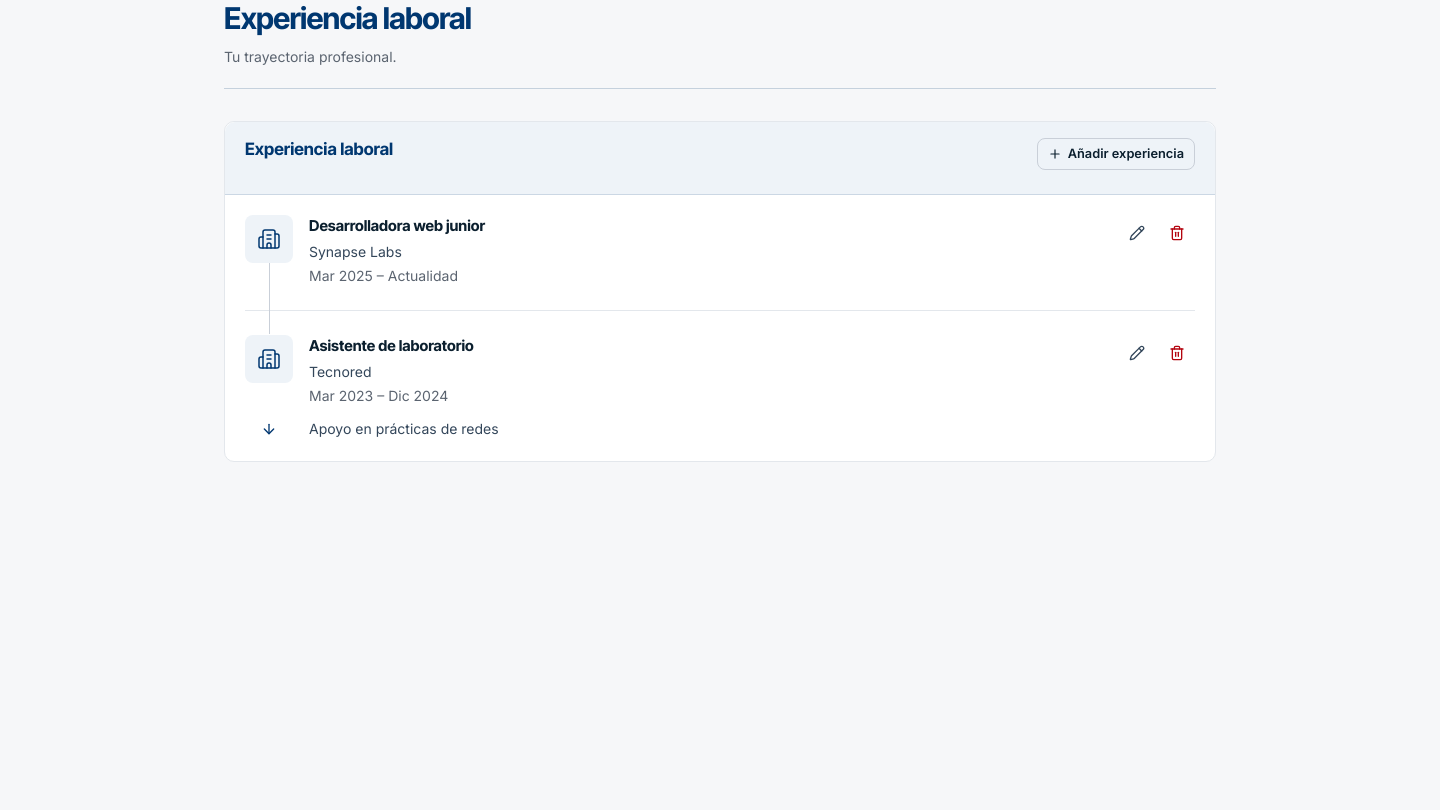
WorkExperienceView › creates an experience and reloads the list
Expected: the heading "Desarrolladora web junior" is shown, [309,216,485,235]
Click the button "Añadir experiencia" at (1116, 154), box [1037,138,1195,170]
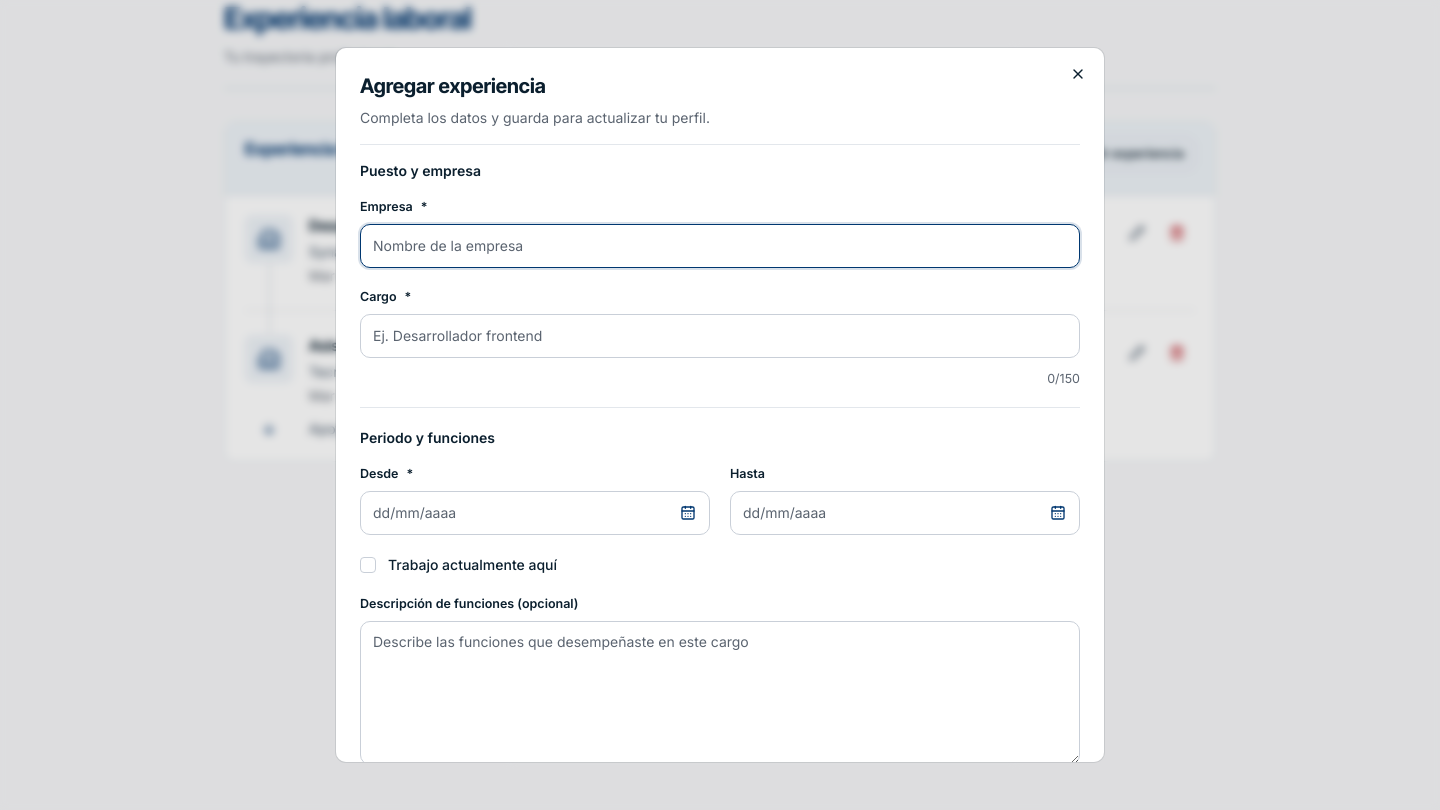
Type "Synapse Labs" into the field labelled "Empresa *" at (720, 246), box [360,224,1080,268]
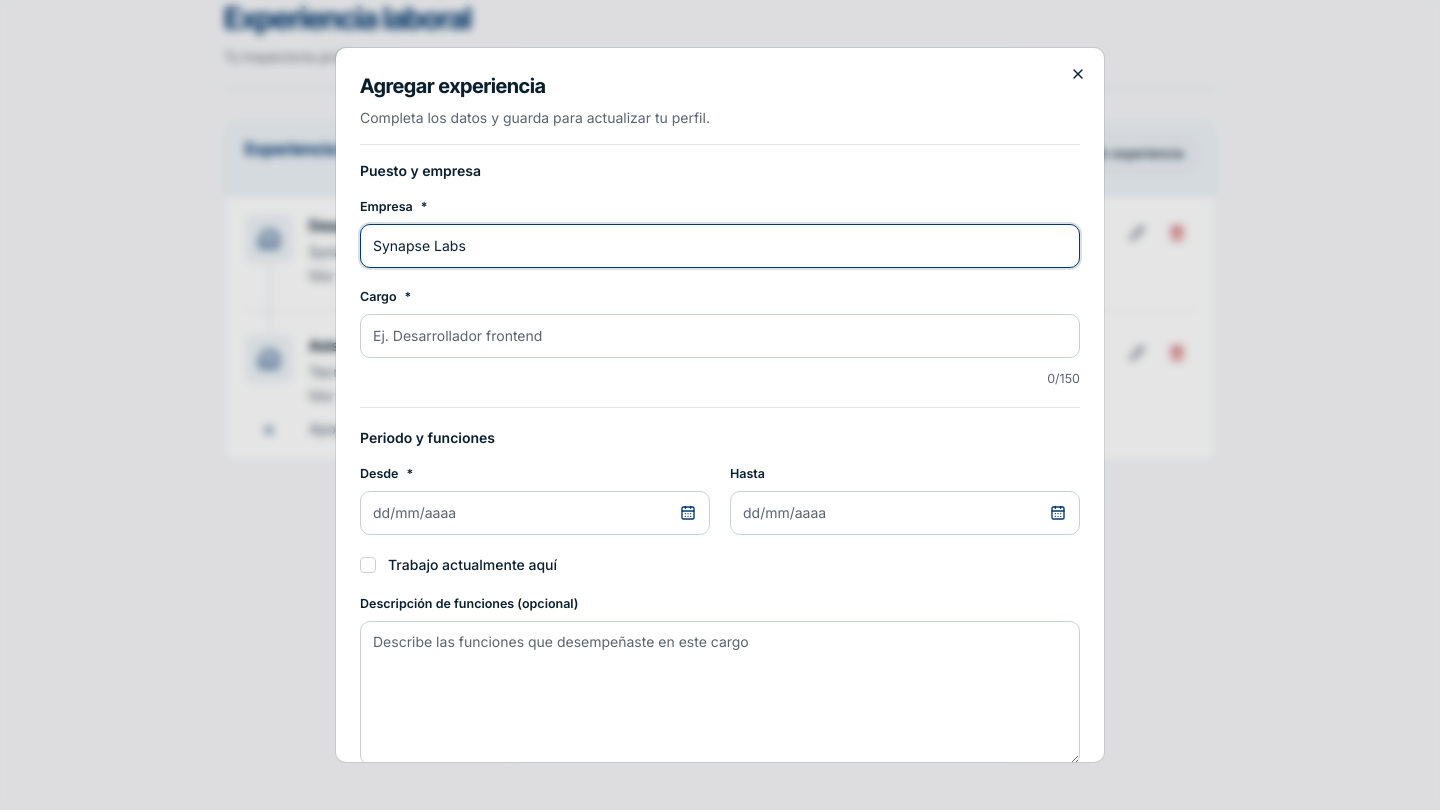
Type "Desarrolladora web junior" into the field labelled "Cargo *" at (720, 336), box [360,314,1080,358]
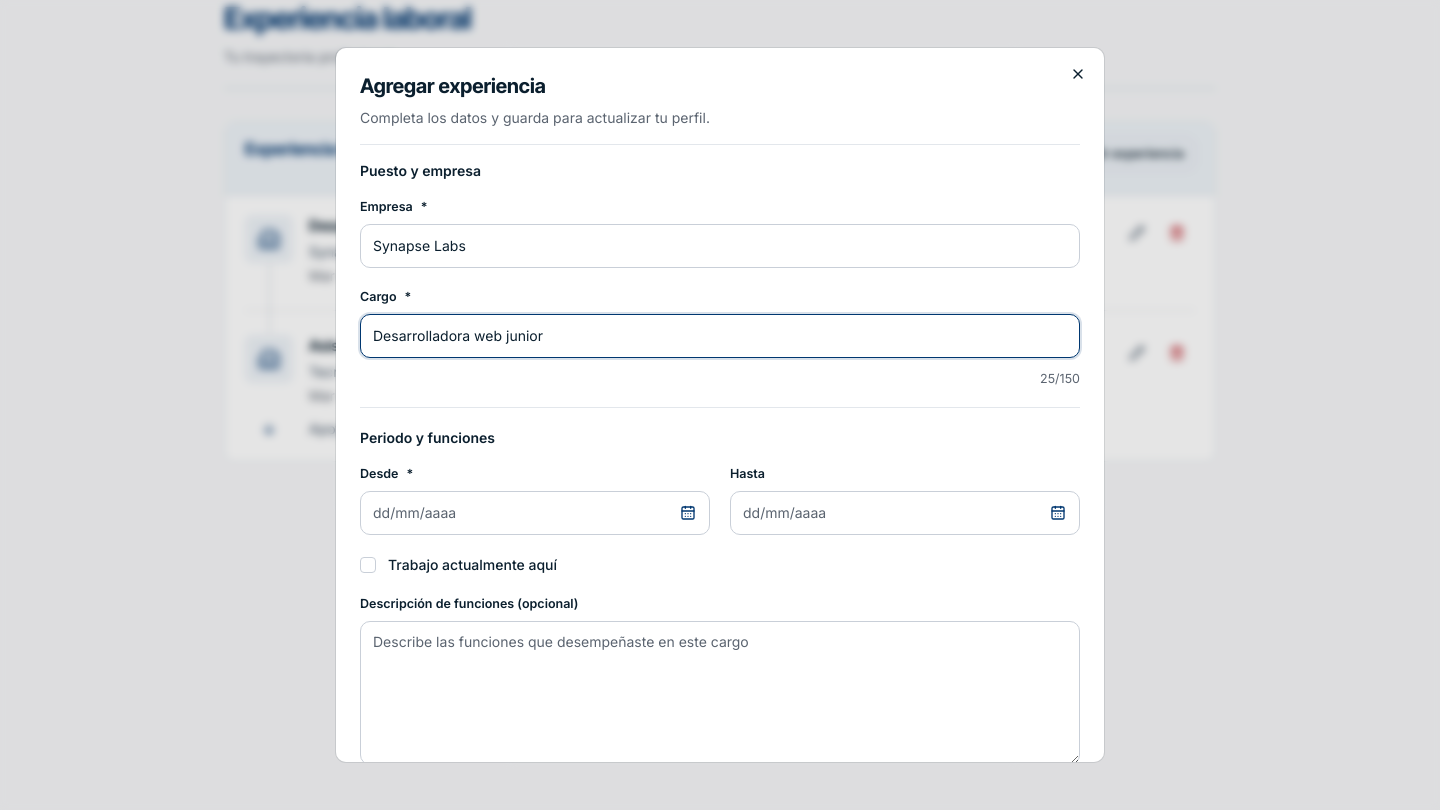
Type "2025-03-01" into the field labelled "Desde *" at (535, 513), box [360,491,710,535]
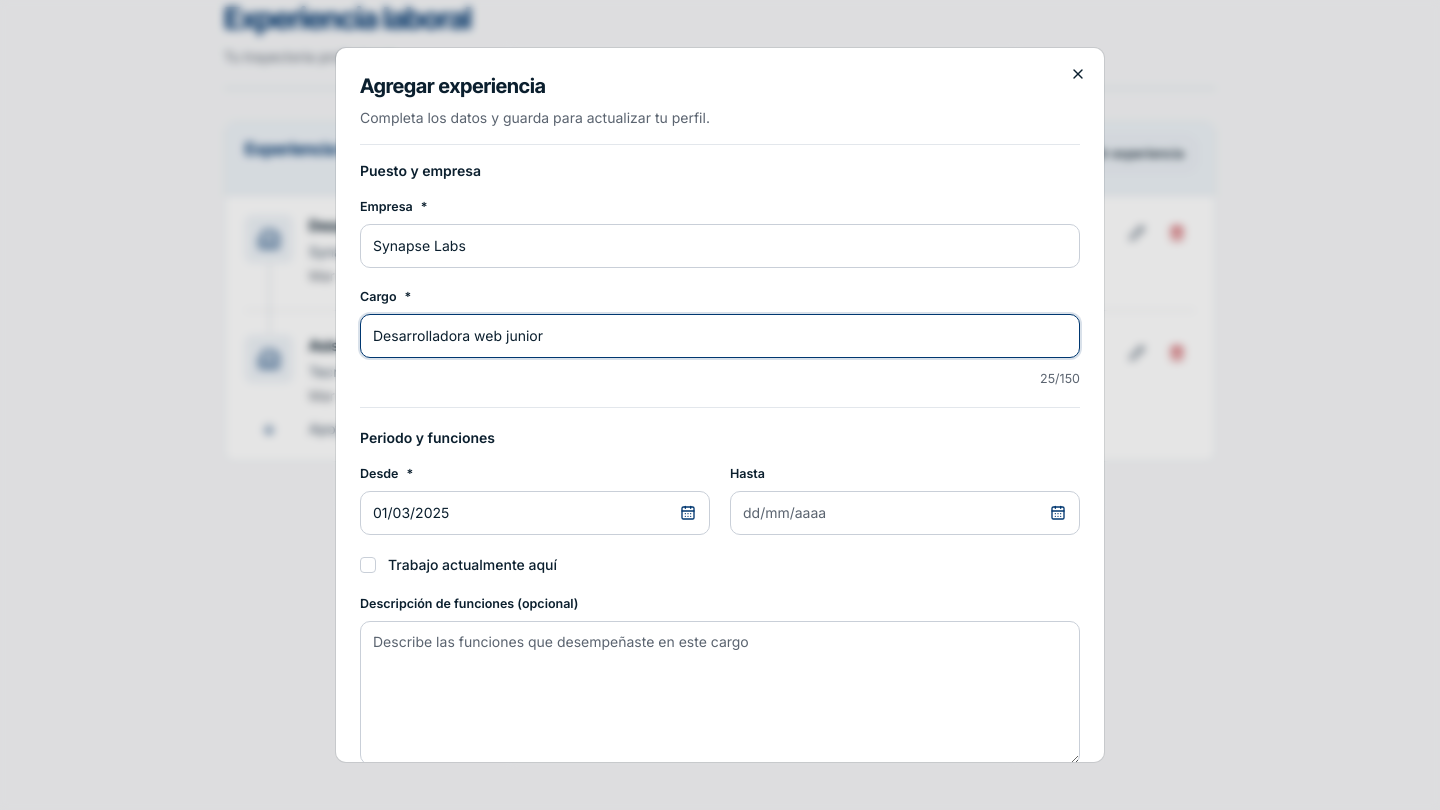
Click the checkbox named "Trabajo actualmente aquí" at (368, 565), box [360,557,376,573]
(page scrolled)
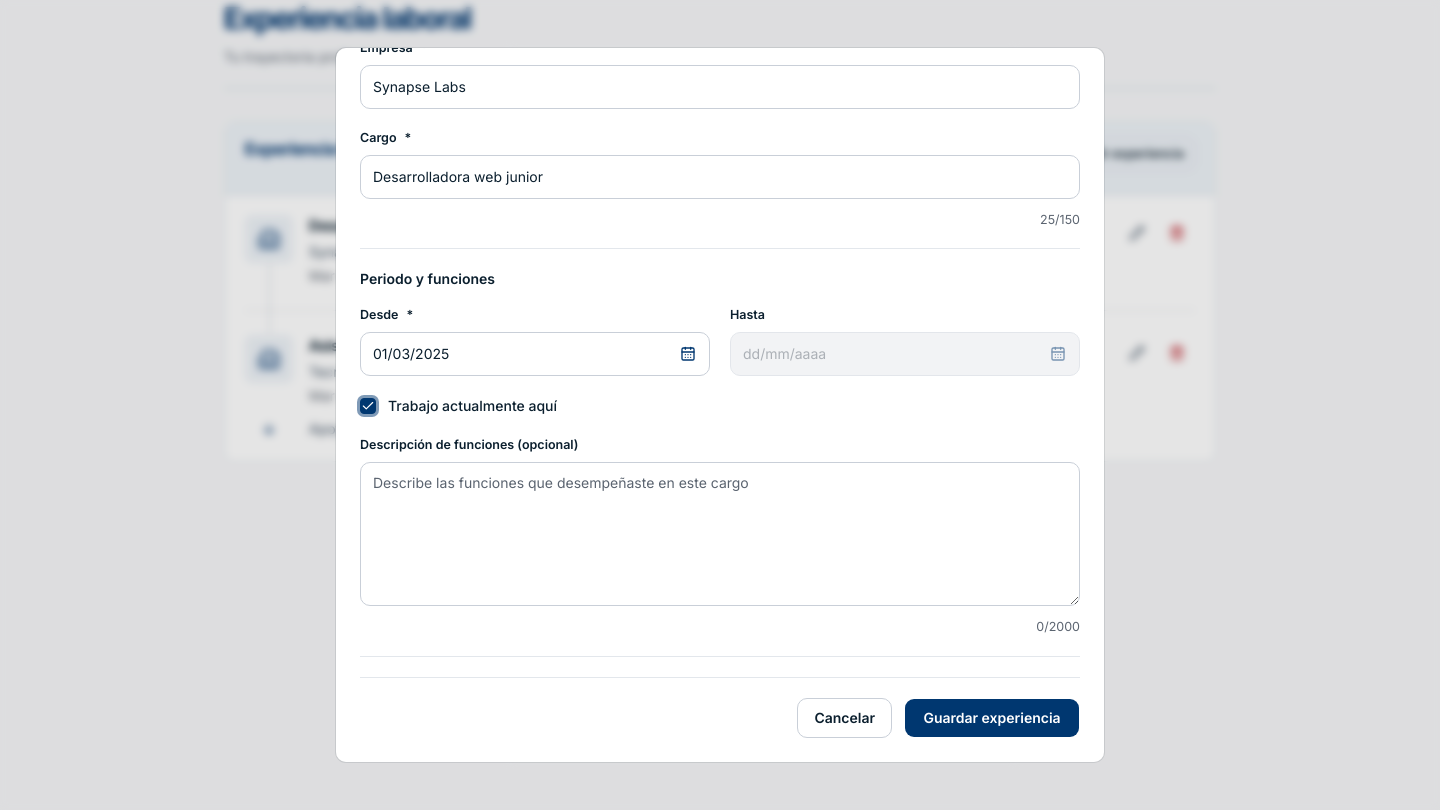
Click the button "Guardar experiencia" at (992, 718), box [904,698,1080,738]
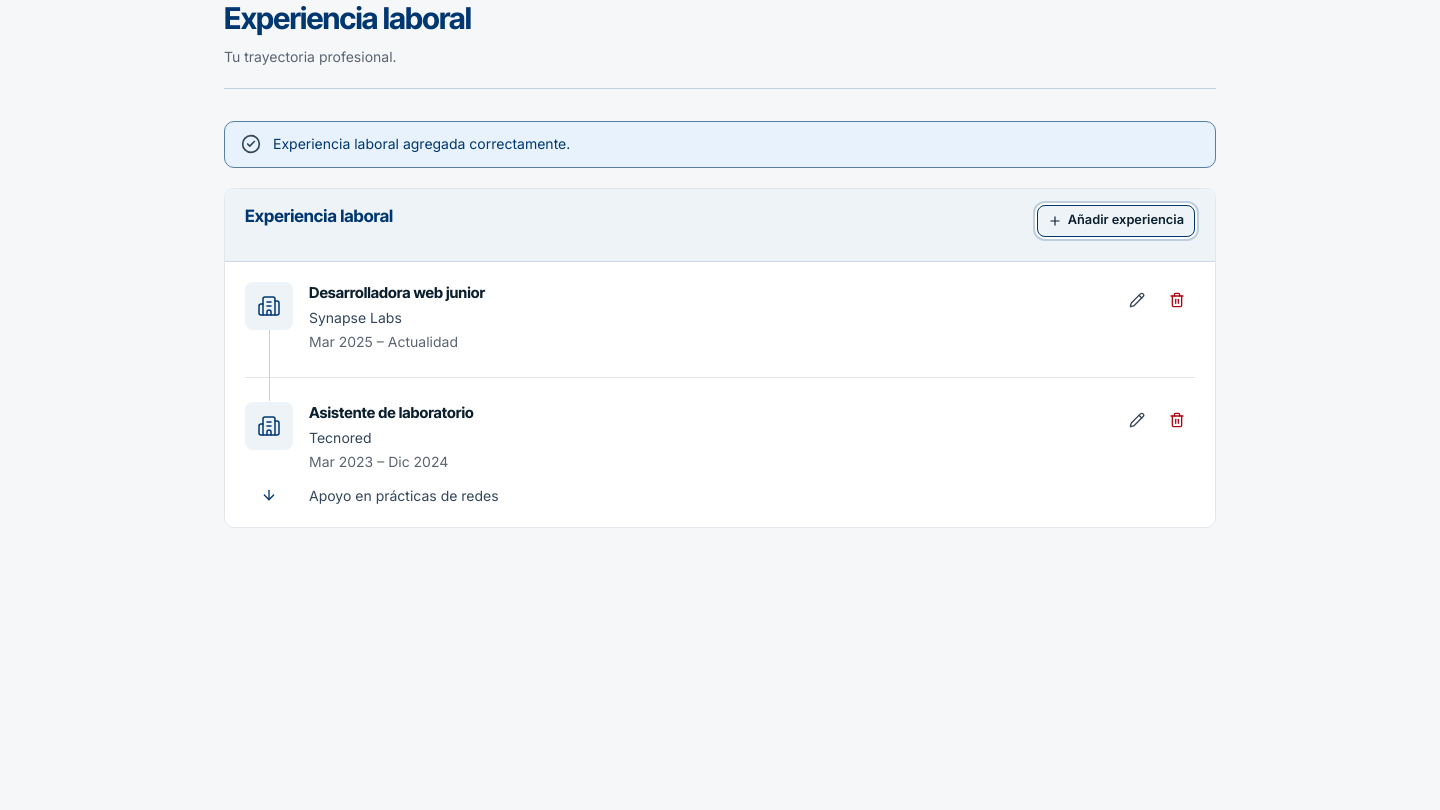
Result: the message reads "Experiencia laboral agregada correctamente." at [273,135,570,152]
Result: the dialog is gone
